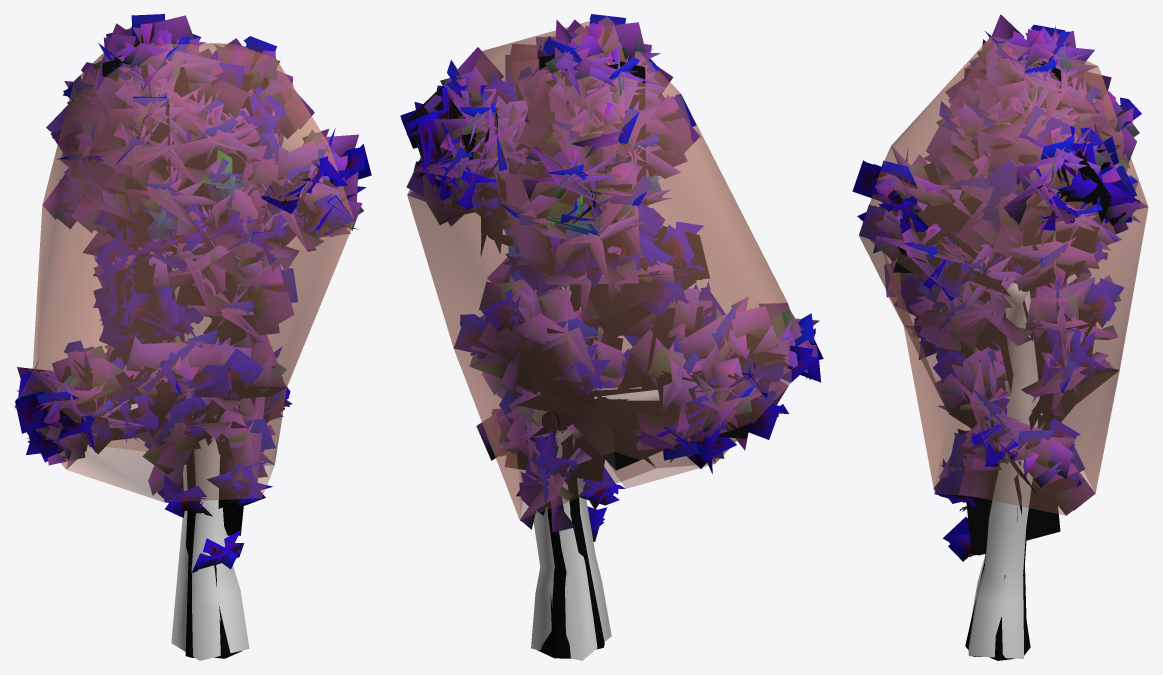
The model's file is tree_oak_large_c.dae.
3 renders of one model, left to right at view 1: azimuth 30°, elevation 25°; view 2: azimuth 150°, elevation 25°; view 3: azimuth 270°, elevation 25°, orthographic. The views are drawn at different scales.
Visible parts, largest first — view 1: Colmesh_large_03-1, OakLarge_03_a1300, OakLarge_03_a400; view 2: Colmesh_large_03-1, OakLarge_03_a400, OakLarge_03_a1300; view 3: Colmesh_large_03-1, OakLarge_03_a1300, OakLarge_03_a400.
Part boxes in pixels (<box>): Colmesh_large_03-1: <box>14,43,354,660</box>; OakLarge_03_a1300: <box>15,14,371,658</box>; OakLarge_03_a400: <box>17,15,371,572</box>; Colmesh_large_03-1: <box>407,16,791,660</box>; OakLarge_03_a400: <box>400,19,822,658</box>; OakLarge_03_a1300: <box>401,14,823,646</box>; Colmesh_large_03-1: <box>859,36,1148,658</box>; OakLarge_03_a1300: <box>852,15,1144,660</box>; OakLarge_03_a400: <box>854,14,1147,660</box>.
Bounding box in the file's own units: 8.54 × 6.67 × 14.98.
